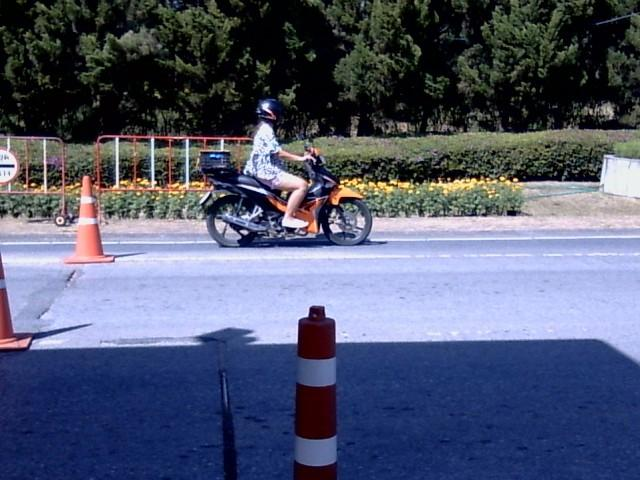helmet: (255, 96, 284, 124)
motor: (198, 146, 372, 246)
person: (243, 98, 310, 227)
